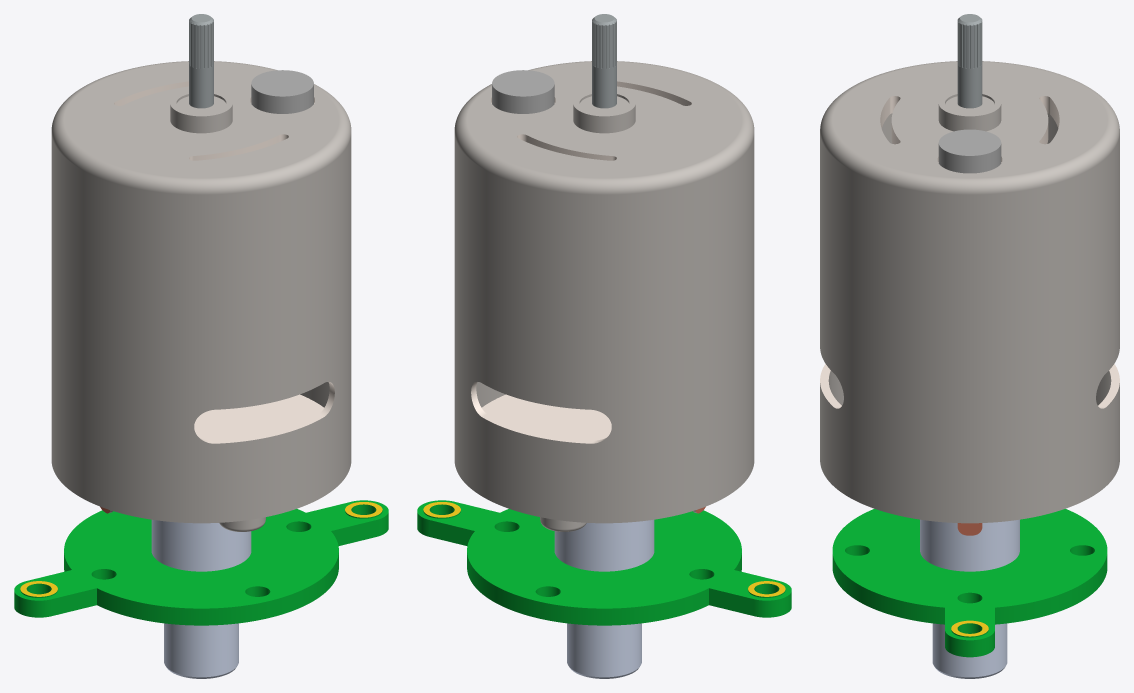
Rendered from modal14.fbx.
3 renders of one model, left to right at view 1: azimuth 30°, elevation 25°; view 2: azimuth 150°, elevation 25°; view 3: azimuth 270°, elevation 25°, orthographic.
Visible parts, largest first — view 1: 切除-拉伸6, 凸台-拉伸4, 切除-拉伸3, 凸台-拉伸1, 阵列(圆周)1; view 2: 切除-拉伸6, 凸台-拉伸4, 切除-拉伸3, 凸台-拉伸1, 阵列(圆周)1; view 3: 切除-拉伸6, 凸台-拉伸4, 切除-拉伸3, 凸台-拉伸1, 阵列(圆周)1.
Boxes of the visible parts, x1=… form: 切除-拉伸6: x1=51, y1=61, x2=351, y2=523; 凸台-拉伸4: x1=14, y1=500, x2=388, y2=625; 切除-拉伸3: x1=151, y1=519, x2=251, y2=678; 凸台-拉伸1: x1=251, y1=70, x2=313, y2=113; 阵列(圆周)1: x1=189, y1=14, x2=213, y2=108; 切除-拉伸6: x1=454, y1=61, x2=754, y2=523; 凸台-拉伸4: x1=417, y1=500, x2=791, y2=625; 切除-拉伸3: x1=554, y1=519, x2=654, y2=678; 凸台-拉伸1: x1=492, y1=70, x2=554, y2=113; 阵列(圆周)1: x1=592, y1=14, x2=616, y2=108; 切除-拉伸6: x1=820, y1=61, x2=1119, y2=535; 凸台-拉伸4: x1=832, y1=509, x2=1107, y2=657; 切除-拉伸3: x1=920, y1=519, x2=1019, y2=678; 凸台-拉伸1: x1=938, y1=129, x2=1001, y2=173; 阵列(圆周)1: x1=957, y1=14, x2=982, y2=108.
Size of the model in its own units: 3.4 by 5.7 by 2.4.
